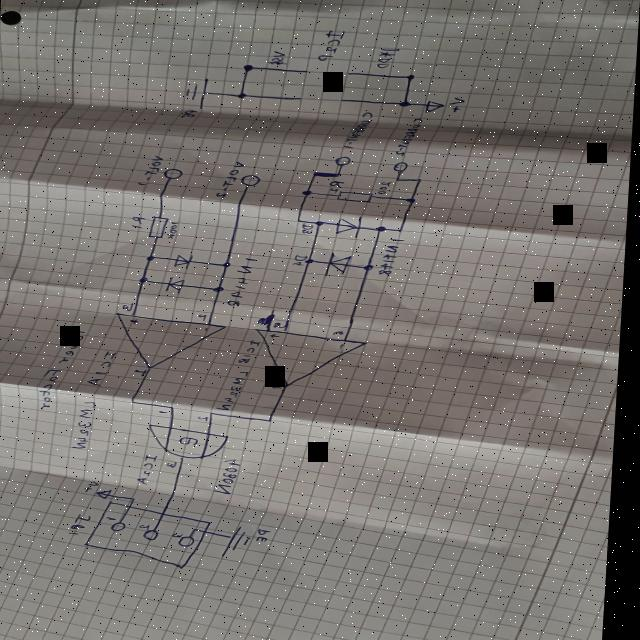diode: (334, 215, 368, 239), (324, 251, 355, 277), (167, 276, 188, 292), (175, 254, 196, 268)
ground: (182, 76, 212, 110), (228, 526, 257, 558)
junction: (398, 100, 412, 108), (241, 64, 255, 72), (236, 92, 248, 99), (305, 257, 317, 264), (214, 286, 227, 292), (364, 264, 376, 270), (140, 277, 152, 283), (302, 190, 314, 196), (404, 74, 416, 80), (316, 220, 326, 227), (147, 254, 158, 260), (378, 226, 388, 232), (223, 262, 233, 268), (407, 198, 417, 204), (334, 172, 343, 178), (211, 410, 219, 416), (171, 405, 180, 410), (269, 418, 277, 423), (398, 228, 406, 233), (311, 172, 321, 176), (296, 218, 304, 223), (132, 400, 140, 404), (416, 178, 424, 182), (395, 178, 402, 182), (135, 497, 141, 501)
resistor: (148, 216, 171, 240), (337, 191, 375, 203)
source: (424, 100, 445, 114), (99, 488, 120, 499)
terminal: (88, 499, 223, 573), (240, 174, 263, 187), (162, 168, 185, 180), (392, 161, 410, 172), (334, 156, 352, 166), (300, 68, 309, 76), (345, 71, 359, 75), (339, 96, 348, 102), (295, 96, 305, 101)
text: (42, 332, 87, 411), (226, 255, 263, 307), (218, 369, 254, 412), (75, 400, 101, 450), (394, 116, 426, 156), (341, 112, 374, 150), (216, 160, 246, 199), (218, 458, 249, 494), (315, 28, 347, 62), (380, 236, 407, 276), (91, 350, 121, 386), (138, 154, 165, 187), (141, 454, 166, 486), (239, 340, 267, 365), (374, 46, 401, 70), (73, 514, 98, 536), (266, 50, 290, 66), (447, 97, 466, 113), (260, 528, 279, 544), (167, 220, 182, 240), (378, 180, 395, 196), (180, 108, 199, 122), (275, 318, 295, 331), (328, 180, 346, 194), (87, 480, 105, 493), (130, 216, 147, 229), (295, 254, 309, 266), (302, 223, 315, 234), (199, 414, 214, 422), (137, 368, 151, 376), (123, 304, 135, 312), (274, 384, 289, 390), (271, 332, 282, 340), (170, 461, 182, 468), (334, 330, 347, 336), (131, 318, 142, 324), (339, 343, 350, 349), (200, 314, 210, 320), (162, 409, 172, 415), (203, 327, 213, 332)
